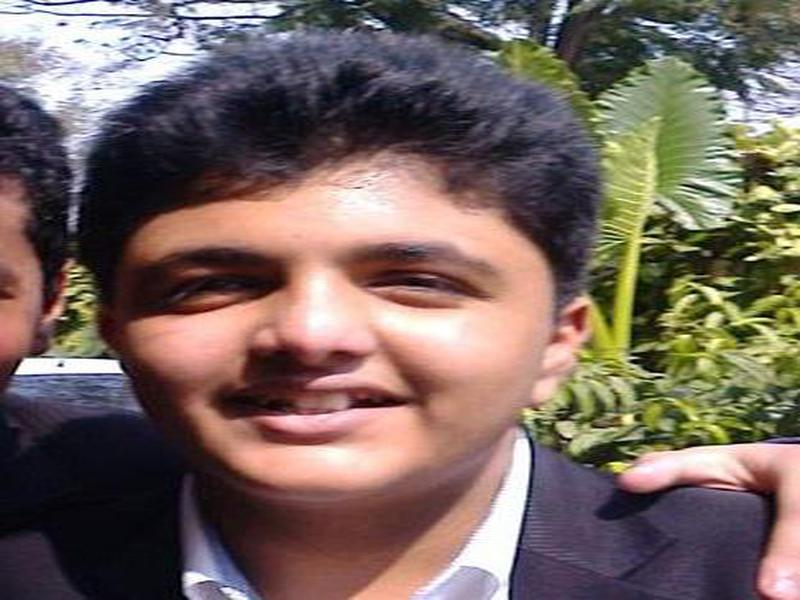without_mask: (119, 193, 536, 506)
